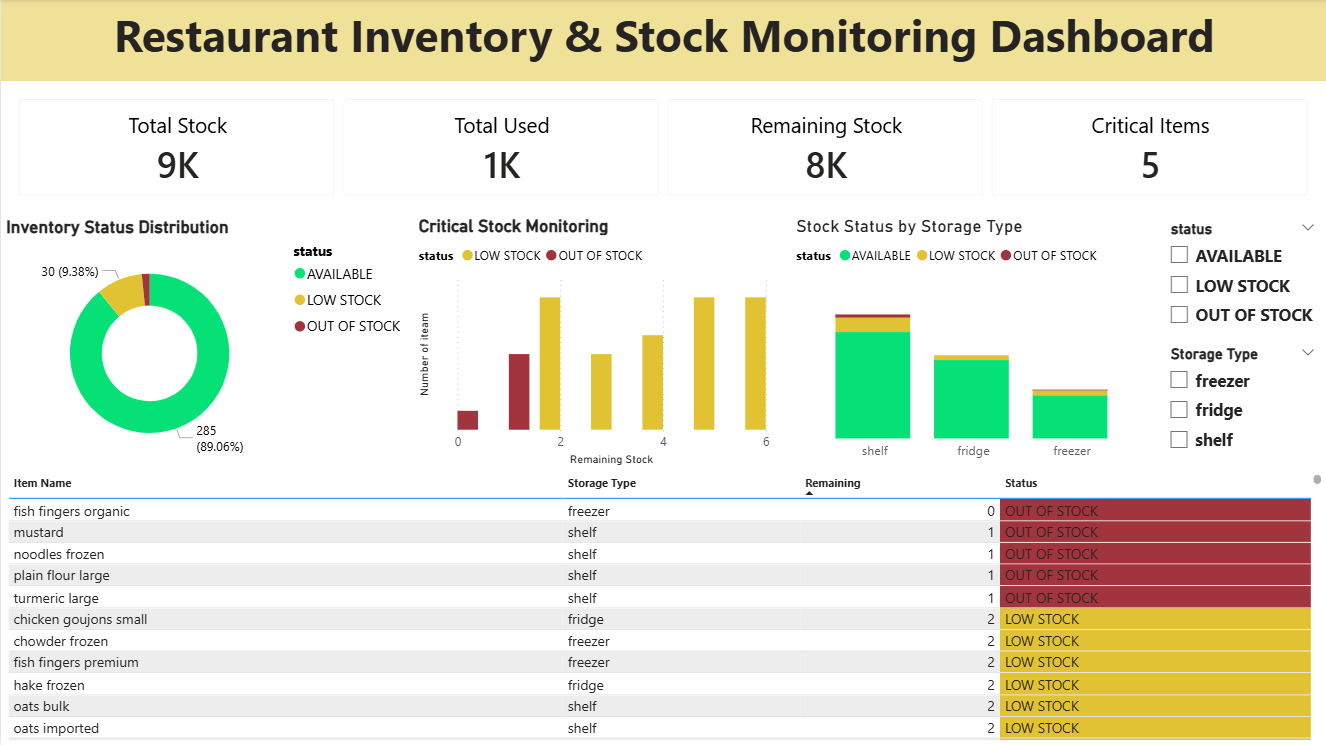

This screenshot's page, from the dashboard's own definition file:
{"tool":"powerbi","page":{"name":"Page 1","canvas":[1280,720],"ordinal":0},"visuals":[{"type":"cardVisual","fields":{"Data":["Sum(inventory_status.total_stock)","Sum(inventory_status.total_used)","Sum(inventory_status.remaining_stock)","inventory_status.Critical Items"]},"box":[0,79.6,1280.3,129],"z":0},{"type":"textbox","box":[0,0,1280.3,79.6],"z":1},{"type":"donutChart","title":"Inventory Status Distribution","fields":{"Category":["inventory_status.status"],"Y":["CountNonNull(inventory_status.item_name)"]},"box":[0,210,399.3,245.5],"z":2},{"type":"columnChart","title":"Stock Status by Storage Type","fields":{"Category":["inventory_status.storage_type"],"Y":["CountNonNull(inventory_status.item_name)"],"Series":["inventory_status.status"]},"box":[763,208.6,352.7,245.6],"z":3},{"type":"tableEx","fields":{"Values":["inventory_status.item_name","inventory_status.storage_type","Sum(inventory_status.remaining_stock)","inventory_status.status"]},"box":[1.4,454.2,1278.9,266.2],"z":4},{"type":"slicer","fields":{"Values":["inventory_status.storage_type"]},"box":[1115.6,329.3,164.7,115.3],"z":5},{"type":"slicer","fields":{"Values":["inventory_status.status"]},"box":[1115.6,208.6,164.7,120.8],"z":6},{"type":"clusteredColumnChart","title":" Critical Stock Monitoring","fields":{"Category":["inventory_status.remaining_stock"],"Series":["inventory_status.status"],"Y":["CountNonNull(inventory_status.item_name)"]},"box":[397.9,208.6,365,247],"z":7}]}

Visuals, with their boxes in screenshot pixels (x1, y1, x2, y2), scaled from the page's 1280x720 canvas onto the 1326x745 screenshot:
cardVisual - Sum(inventory_status.total_stock) x Sum(inventory_status.total_used): 0 82 1325 216
textbox: 0 0 1325 82
"Inventory Status Distribution" donutChart: 0 217 414 471
"Stock Status by Storage Type" columnChart: 790 216 1156 470
tableEx - inventory_status.item_name x inventory_status.storage_type: 1 470 1325 744
slicer - inventory_status.storage_type: 1156 341 1325 460
slicer - inventory_status.status: 1156 216 1325 341
" Critical Stock Monitoring" clusteredColumnChart: 412 216 790 471
